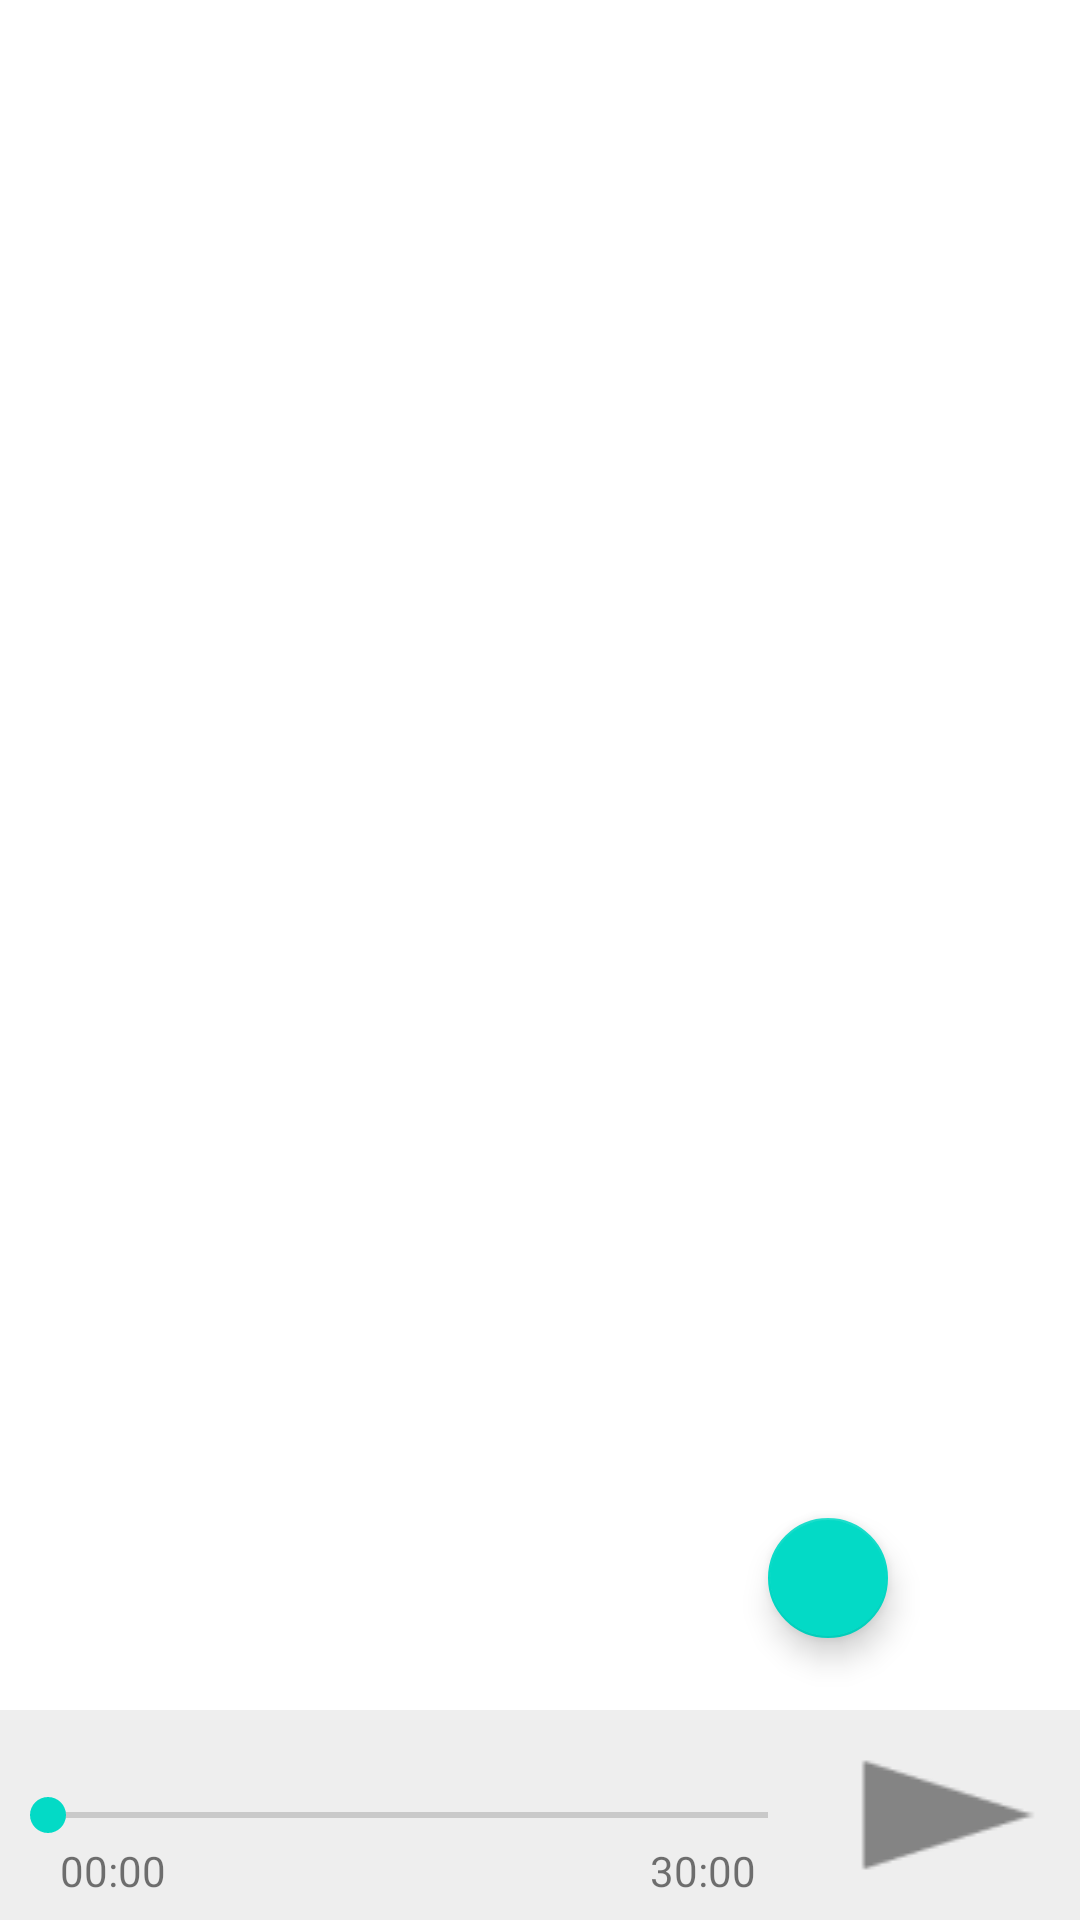

Point at icon controls on the screen. Image size 1080w x 1920h, points as (x=x, y=y).
play: (x=946, y=1815)
